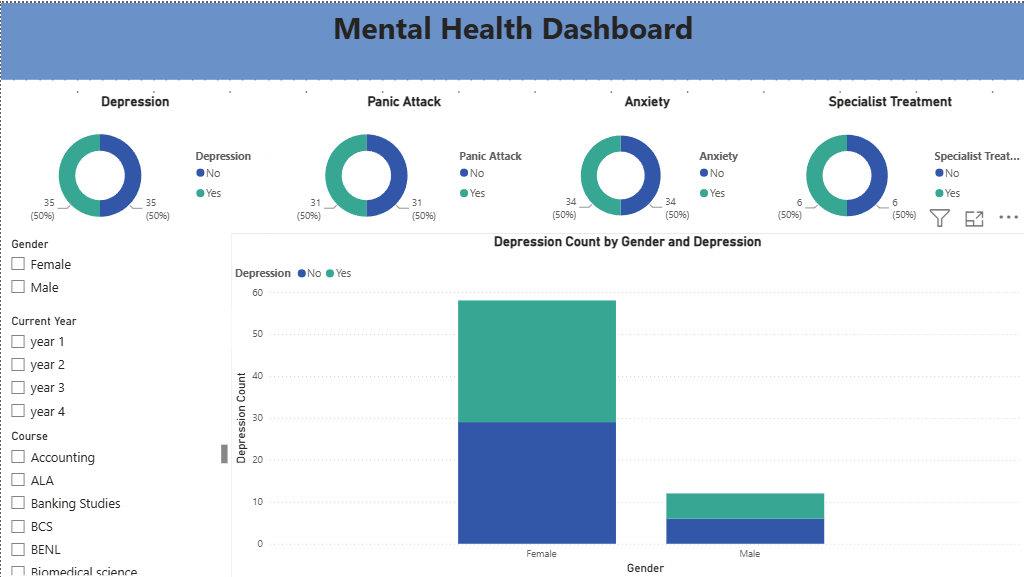

Layout of this report page (visuals, bound fields, positions):
{"tool":"powerbi","page":{"name":"Mental Health","canvas":[1280,720],"ordinal":1},"visuals":[{"type":"donutChart","title":"Depression","fields":{"Category":["Student_health.Depression"],"Y":["Student_health.Depression Count"]},"box":[0,112,336,176],"z":0},{"type":"donutChart","title":"Panic Attack","fields":{"Y":["Student_health.Panic Attack count"],"Category":["Student_health.Panic Attack"]},"box":[336,112,336,176],"z":1},{"type":"donutChart","title":" Specialist Treatment","fields":{"Category":["Student_health.Specialist Treatment"],"Y":["Student_health.Specialist treatment count"]},"box":[944,112,336,176],"z":2},{"type":"donutChart","title":" Anxiety","fields":{"Y":["Student_health.Anxiety Count"],"Category":["Student_health.Anxiety"]},"box":[672,112,272,176],"z":3},{"type":"columnChart","fields":{"Category":["Student_health.Gender"],"Series":["Student_health.Depression"],"Y":["Student_health.Depression Count"]},"box":[288,288,992,432],"z":4},{"type":"slicer","fields":{"Values":["Student_health.Gender"]},"box":[0,288,288,144],"z":5},{"type":"slicer","fields":{"Values":["Student_health.Current Year"]},"box":[0,384,288,160],"z":6},{"type":"slicer","fields":{"Values":["Student_health.Course"]},"box":[0,528,288,192],"z":7},{"type":"textbox","box":[0,0,1280,96],"z":8}]}

Visuals, with their boxes on the page's 1280x720 design canvas (x1, y1, x2, y2). These are canvas units, not pixel positions in the 1024x577 screenshot, which may show the page scaled, cropped or inside an application window:
"Depression" donutChart: (0, 112, 336, 288)
"Panic Attack" donutChart: (336, 112, 672, 288)
" Specialist Treatment" donutChart: (944, 112, 1280, 288)
" Anxiety" donutChart: (672, 112, 944, 288)
columnChart - Student_health.Gender x Student_health.Depression: (288, 288, 1280, 720)
slicer - Student_health.Gender: (0, 288, 288, 432)
slicer - Student_health.Current Year: (0, 384, 288, 544)
slicer - Student_health.Course: (0, 528, 288, 720)
textbox: (0, 0, 1280, 96)
